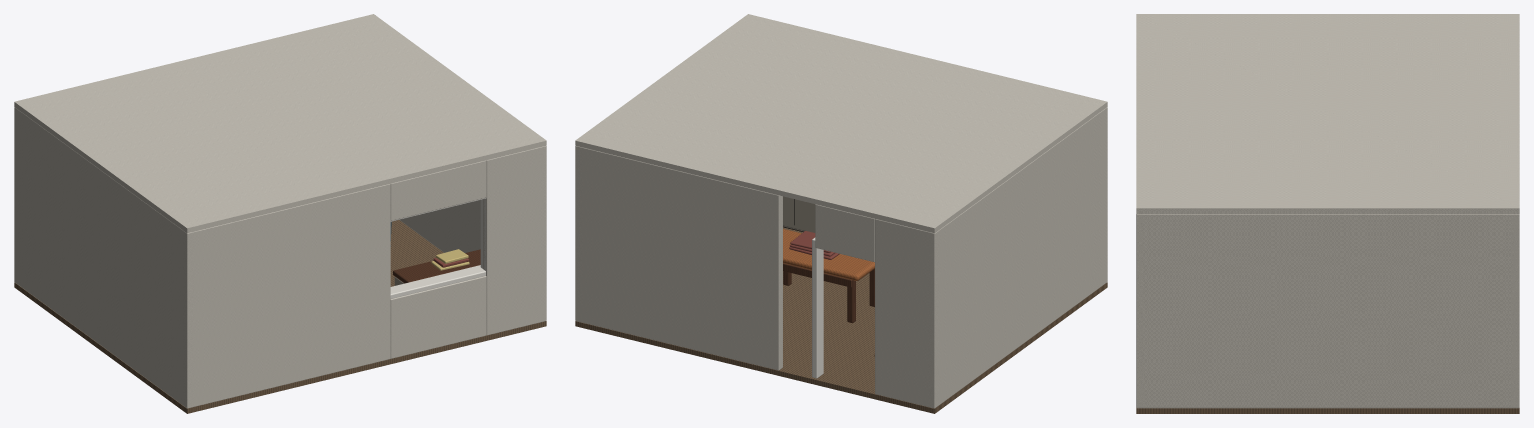
File: experiment-1-room.glb
The picture shows the model from 3 angles, left to right: view 1: azimuth 30°, elevation 25°; view 2: azimuth 150°, elevation 25°; view 3: azimuth 270°, elevation 25°; orthographic projection. The views are drawn at different scales.
Parts seen in each view (by area): view 1: room-shell:ceiling, room-shell:north-left, room-shell:west-wall, room-shell:north-right, room-shell:north-sill-wall, room-shell:floor, room-shell:north-header-wall, room-shell:east-wall, room-shell:window-sill, cabinet:top; view 2: room-shell:ceiling, room-shell:south-right, room-shell:west-wall, room-shell:floor, room-shell:south-left, room-shell:door-header-wall, table:top, room-shell:door-right, cabinet:body, room-shell:east-wall, table:apron-n; view 3: room-shell:ceiling, room-shell:east-wall, room-shell:floor, room-shell:south-right, room-shell:north-right.
Boxes of the visible parts, x1,y1,x2,y2 form: room-shell:ceiling: (14,14,546,233); room-shell:north-left: (183,184,390,408); room-shell:west-wall: (14,107,193,408); room-shell:north-right: (483,146,546,335); room-shell:north-sill-wall: (390,276,486,358); room-shell:floor: (14,220,546,413); room-shell:north-header-wall: (390,160,486,220); room-shell:east-wall: (399,146,546,254); room-shell:window-sill: (390,265,485,298); cabinet:top: (393,249,480,283); room-shell:ceiling: (575,14,1107,233); room-shell:south-right: (575,146,782,370); room-shell:west-wall: (928,107,1107,408); room-shell:floor: (575,227,1107,413); room-shell:south-left: (875,219,938,408); room-shell:door-header-wall: (815,204,874,262); table:top: (783,229,874,280); room-shell:door-right: (812,240,823,378); cabinet:body: (783,196,815,232); room-shell:east-wall: (575,146,581,294); table:apron-n: (783,263,852,287); room-shell:ceiling: (1136,14,1519,213); room-shell:east-wall: (1136,214,1519,408); room-shell:floor: (1136,408,1519,413); room-shell:south-right: (1511,214,1519,407); room-shell:north-right: (1136,214,1144,407).
Bounding box in the file's own units: 6 × 2.96 × 5.
Materials: 13 (13 with a texture image).
